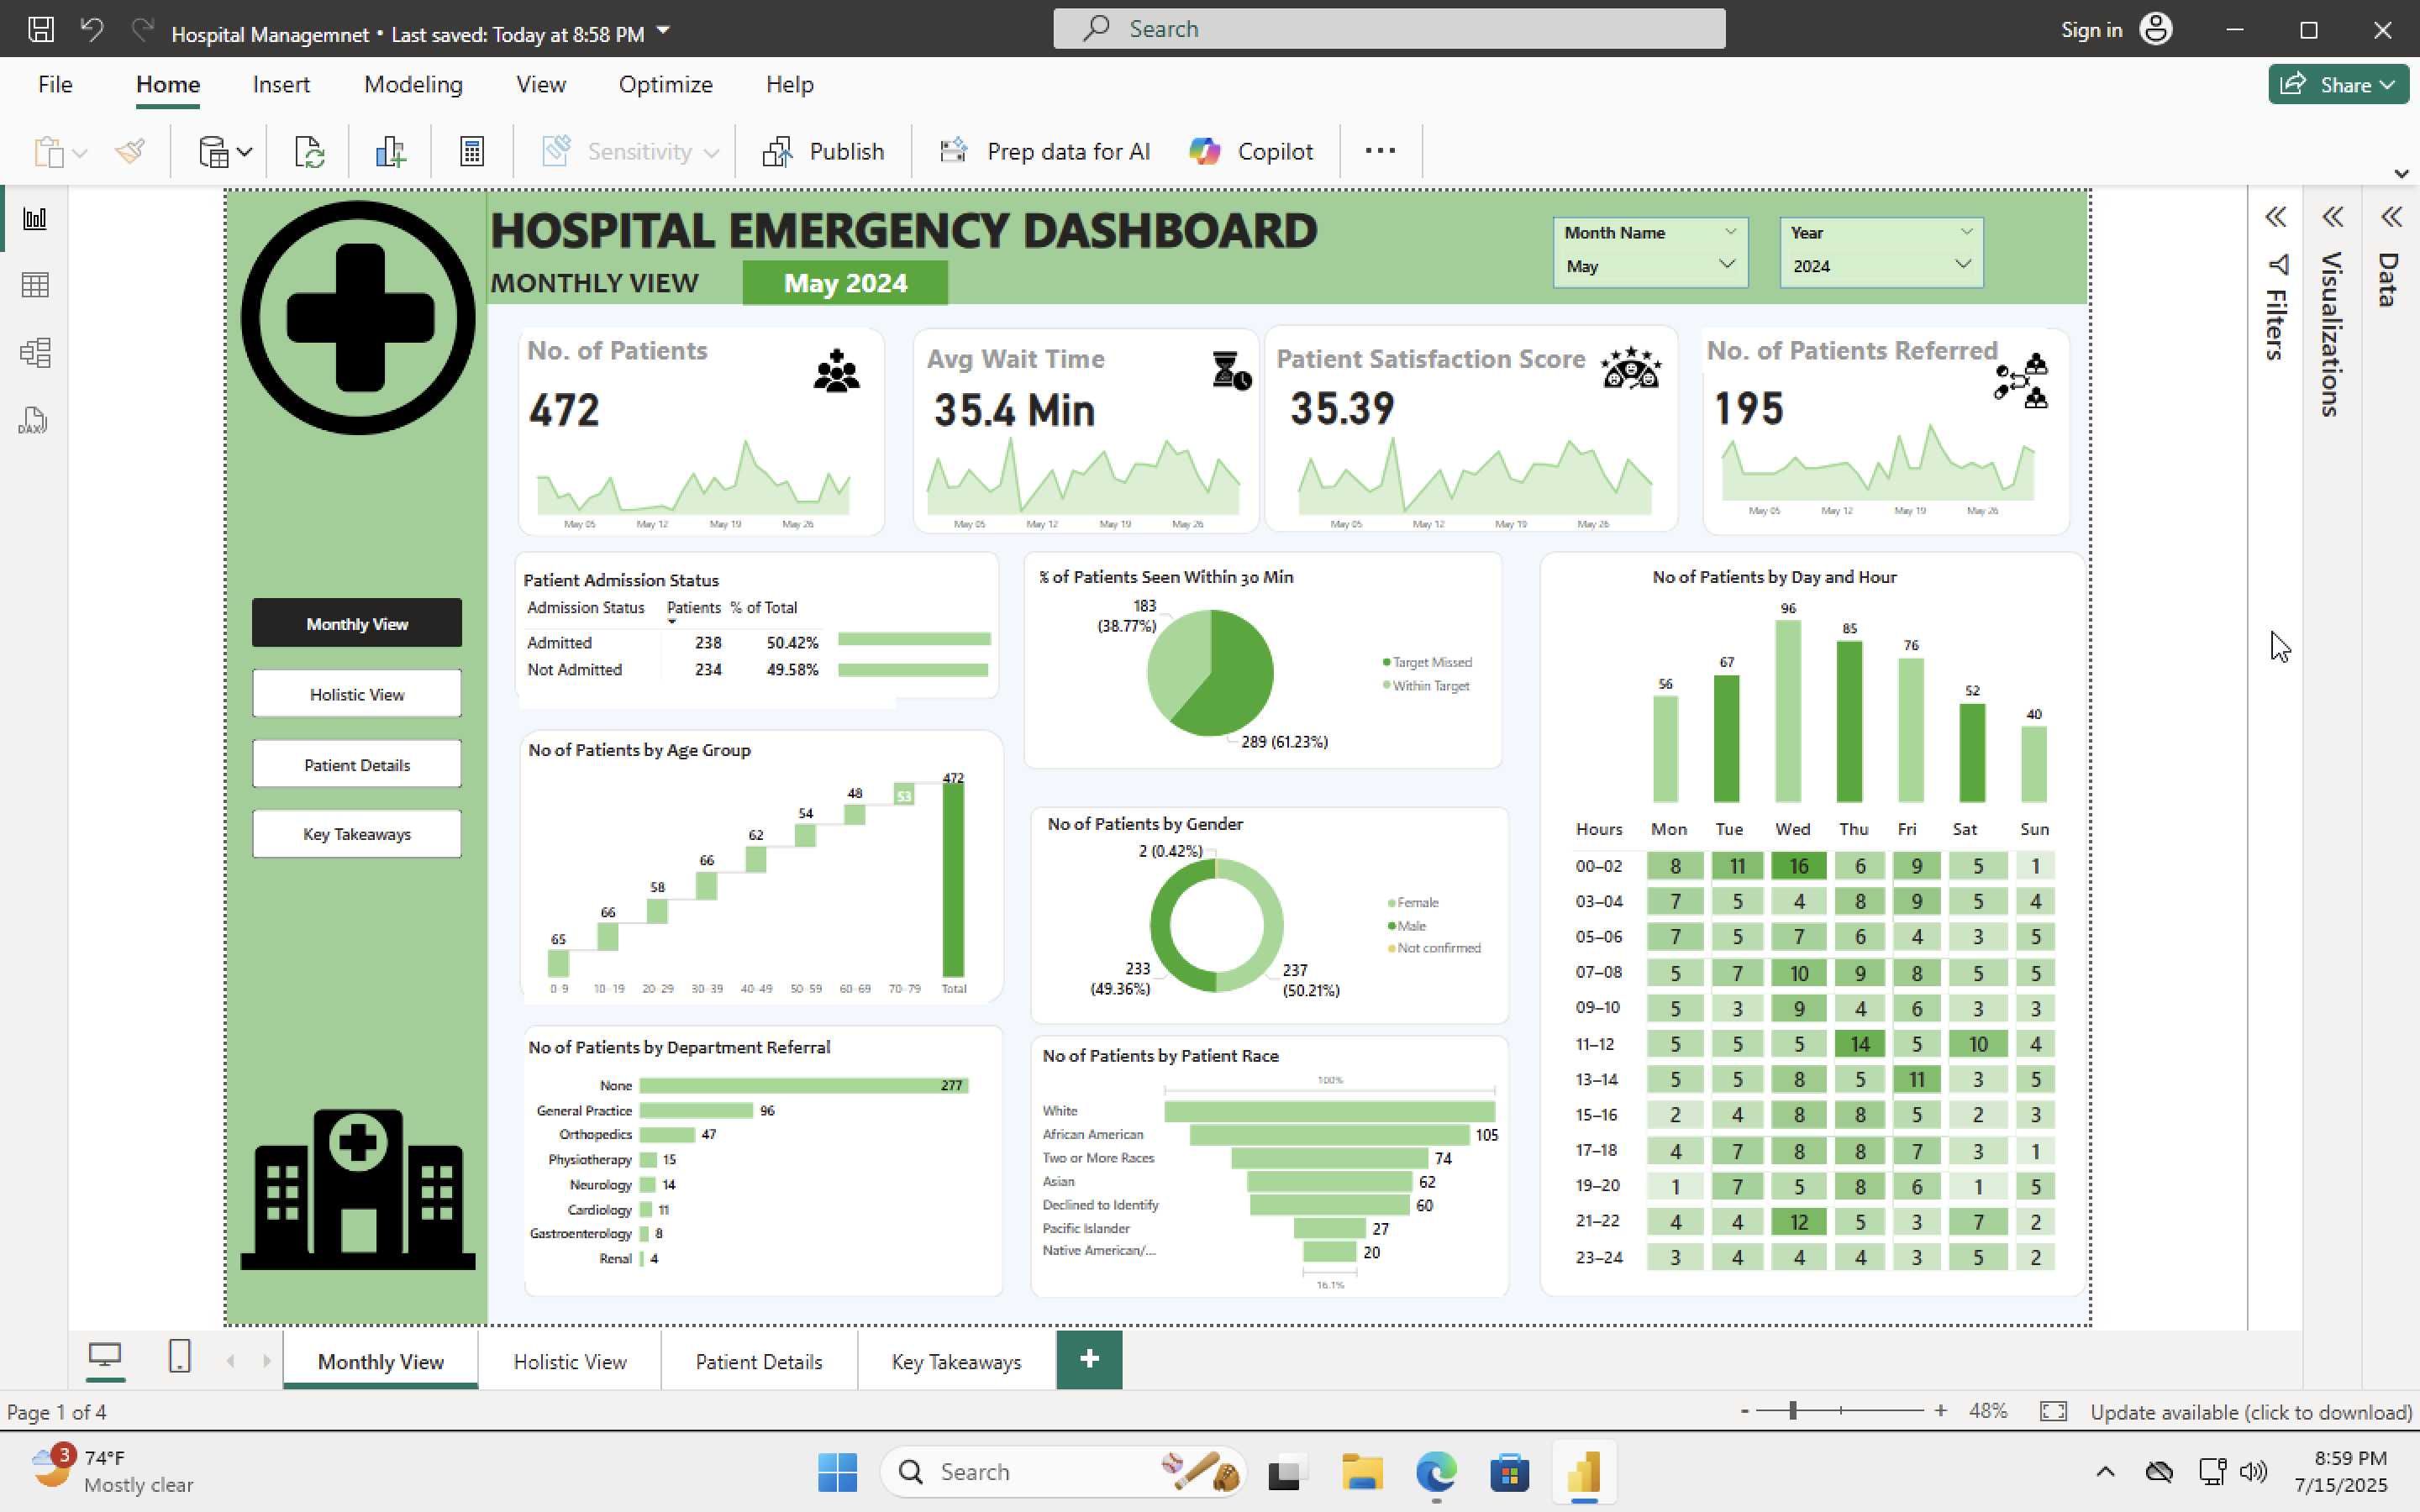

The page's visual inventory and layout, read from the dashboard file:
{"tool":"powerbi","page":{"name":"Monthly View","canvas":[2300,1400],"ordinal":0},"visuals":[{"type":"shape","box":[359.7,167.2,455,258.9],"z":0},{"type":"shape","box":[0,0,323.3,1400],"z":1000},{"type":"shape","box":[323.3,0,1976.7,139.5],"z":2000},{"type":"textbox","box":[320.7,0,1280.6,103.1],"z":3000},{"type":"textbox","box":[320.7,68.7,316.1,71],"z":4000},{"type":"card","fields":{"Values":["Hospital ER_Data.No of Patients"]},"box":[320.9,169.8,195.3,146.5],"z":5000},{"type":"slicer","fields":{"Values":["Date Table.Month Name"]},"box":[1639.5,30.2,241.9,88.4],"z":6000},{"type":"slicer","fields":{"Values":["Date Table.Year"]},"box":[1918.6,30.2,253.5,88.4],"z":7000},{"type":"textbox","box":[366.5,167.2,428.4,57.3],"z":8000},{"type":"areaChart","fields":{"Category":["Date Table.Date.Variation.Date Hierarchy.Day"],"Y":["Hospital ER_Data.No of Patients"]},"box":[359.7,284.1,435.3,144.3],"z":9000},{"type":"card","fields":{"Values":["Min(Date Table.Month & Year)"]},"box":[636.9,84.8,254.3,34.4],"z":10000},{"type":"shape","box":[983.7,444.2,593,269.8],"z":11000},{"type":"shape","box":[846.5,167.4,430.2,255.8],"z":12000},{"type":"areaChart","fields":{"Category":["Date Table.Date.Variation.Date Hierarchy.Day"],"Y":["Avg(Hospital ER_Data.Patient Waittime)"]},"box":[823.3,286,434.9,144.2],"z":13000},{"type":"shape","box":[1281.4,165.1,514,258.1],"z":14000},{"type":"textbox","box":[1293,179.1,407,53.5],"z":15000},{"type":"areaChart","fields":{"Category":["Date Table.Date.Variation.Date Hierarchy.Day"],"Y":["Hospital ER_Data.Satisfaction Score"]},"box":[1302.3,283.7,455.8,144.2],"z":16000},{"type":"shape","box":[1823.3,167.4,455.8,258.1],"z":17000},{"type":"textbox","box":[1830.2,176.7,427.9,55.8],"z":18000},{"type":"areaChart","fields":{"Category":["Date Table.Date.Variation.Date Hierarchy.Day"],"Y":["Hospital ER_Data.No of Patient Referred"]},"box":[1823.5,268,435.3,144.3],"z":19000},{"type":"card","fields":{"Values":["Hospital ER_Data.Avg Wait Time"]},"box":[858.1,209.3,232.6,107],"z":20000},{"type":"card","fields":{"Values":["Hospital ER_Data.Satisfaction Score"]},"box":[1281.4,214,195.3,93],"z":21000},{"type":"shape","box":[367.4,1030.2,593,337.2],"z":22000},{"type":"card","fields":{"Values":["Hospital ER_Data.No of Patient Referred"]},"box":[1795.3,197.7,172.1,125.6],"z":23000},{"type":"shape","box":[355.8,444.2,600,183.7],"z":24000},{"type":"pivotTable","title":"Patient Admission Status","fields":{"Rows":["Hospital ER_Data.Admission Status"],"Values":["Hospital ER_Data.No of Patients1","Hospital ER_Data.No of Patients"]},"box":[360.5,465.1,465.1,174.4],"z":25000},{"type":"barChart","fields":{"Category":["Hospital ER_Data.Admission Status"],"Y":["Hospital ER_Data.No of Patients"]},"box":[748.8,514,248.8,114],"z":26000},{"type":"shape","box":[360.5,665.1,600,339.5],"z":27000},{"type":"clusteredColumnChart","fields":{"Category":["Hospital ER_Data.Age Group"],"Y":["Hospital ER_Data.No of Patients"]},"box":[367.4,674.4,574.4,330.2],"z":28000},{"type":"clusteredBarChart","fields":{"Category":["Hospital ER_Data.Department Referral"],"Y":["Hospital ER_Data.No of Patients"]},"box":[367.4,1041.9,588.4,304.7],"z":29000},{"type":"donutChart","title":"% of Patients Seen  Within  30 Min","fields":{"Category":["Hospital ER_Data.Waitime Status"],"Y":["Hospital ER_Data.No of Patients"]},"box":[997.7,476.7,555.8,237.2],"z":30000},{"type":"shape","box":[993,1041.9,593,325.6],"z":31000},{"type":"shape","box":[993,760.5,593,269.8],"z":32000},{"type":"donutChart","title":"No of Patients by Gender","fields":{"Y":["Hospital ER_Data.No of Patients"],"Category":["Hospital ER_Data.Patient Gender"]},"box":[1009.3,767.4,555.8,253.5],"z":33000},{"type":"clusteredBarChart","fields":{"Y":["Hospital ER_Data.No of Patients"],"Category":["Hospital ER_Data.Patient Race"]},"box":[1002.3,1053.5,574.4,314],"z":34000},{"type":"shape","box":[1623.3,444.2,676.7,923.3],"z":35000},{"type":"pivotTable","fields":{"Rows":["Hospital ER_Data.Waittime Interval"],"Columns":["Date Table.Day Name"],"Values":["Hospital ER_Data.No of Patients"]},"box":[1658.1,767.4,620.9,586],"z":36000},{"type":"columnChart","title":"No of Patients by Day and Hour","fields":{"Category":["Date Table.Day Name"],"Y":["Hospital ER_Data.No of Patients"]},"box":[1758.1,460.5,500,300],"z":37000},{"type":"image","box":[711.6,181.4,83.7,81.4],"z":38000},{"type":"image","box":[1195.3,193,97.7,58.1],"z":39000},{"type":"image","box":[1683.7,169.8,102.3,93],"z":40000},{"type":"image","box":[2176.7,188.4,81.4,88.4],"z":41000},{"type":"textbox","box":[858.1,179.1,293,48.8],"z":42000},{"type":"image","box":[0,23.3,300,300],"z":43000},{"type":"image","box":[11.6,1083.7,300,300],"z":44000}]}

Visuals, with their boxes on the page's 2300x1400 design canvas (x1, y1, x2, y2). These are canvas units, not pixel positions in the 2420x1512 screenshot, which may show the page scaled, cropped or inside an application window:
shape: crop(360, 167, 815, 426)
shape: crop(0, 0, 323, 1400)
shape: crop(323, 0, 2300, 140)
textbox: crop(321, 0, 1601, 103)
textbox: crop(321, 69, 637, 140)
card - Hospital ER_Data.No of Patients: crop(321, 170, 516, 316)
slicer - Date Table.Month Name: crop(1640, 30, 1881, 119)
slicer - Date Table.Year: crop(1919, 30, 2172, 119)
textbox: crop(366, 167, 795, 224)
areaChart - Date Table.Date.Variation.Date Hierarchy.Day x Hospital ER_Data.No of Patients: crop(360, 284, 795, 428)
card - Min(Date Table.Month & Year): crop(637, 85, 891, 119)
shape: crop(984, 444, 1577, 714)
shape: crop(846, 167, 1277, 423)
areaChart - Date Table.Date.Variation.Date Hierarchy.Day x Avg(Hospital ER_Data.Patient Waittime): crop(823, 286, 1258, 430)
shape: crop(1281, 165, 1795, 423)
textbox: crop(1293, 179, 1700, 233)
areaChart - Date Table.Date.Variation.Date Hierarchy.Day x Hospital ER_Data.Satisfaction Score: crop(1302, 284, 1758, 428)
shape: crop(1823, 167, 2279, 426)
textbox: crop(1830, 177, 2258, 232)
areaChart - Date Table.Date.Variation.Date Hierarchy.Day x Hospital ER_Data.No of Patient Referred: crop(1824, 268, 2259, 412)
card - Hospital ER_Data.Avg Wait Time: crop(858, 209, 1091, 316)
card - Hospital ER_Data.Satisfaction Score: crop(1281, 214, 1477, 307)
shape: crop(367, 1030, 960, 1367)
card - Hospital ER_Data.No of Patient Referred: crop(1795, 198, 1967, 323)
shape: crop(356, 444, 956, 628)
"Patient Admission Status" pivotTable: crop(360, 465, 826, 640)
barChart - Hospital ER_Data.Admission Status x Hospital ER_Data.No of Patients: crop(749, 514, 998, 628)
shape: crop(360, 665, 960, 1005)
clusteredColumnChart - Hospital ER_Data.Age Group x Hospital ER_Data.No of Patients: crop(367, 674, 942, 1005)
clusteredBarChart - Hospital ER_Data.Department Referral x Hospital ER_Data.No of Patients: crop(367, 1042, 956, 1347)
"% of Patients Seen  Within  30 Min" donutChart: crop(998, 477, 1554, 714)
shape: crop(993, 1042, 1586, 1368)
shape: crop(993, 760, 1586, 1030)
"No of Patients by Gender" donutChart: crop(1009, 767, 1565, 1021)
clusteredBarChart - Hospital ER_Data.No of Patients x Hospital ER_Data.Patient Race: crop(1002, 1054, 1577, 1368)
shape: crop(1623, 444, 2300, 1368)
pivotTable - Hospital ER_Data.Waittime Interval x Date Table.Day Name: crop(1658, 767, 2279, 1353)
"No of Patients by Day and Hour" columnChart: crop(1758, 460, 2258, 760)
image: crop(712, 181, 795, 263)
image: crop(1195, 193, 1293, 251)
image: crop(1684, 170, 1786, 263)
image: crop(2177, 188, 2258, 277)
textbox: crop(858, 179, 1151, 228)
image: crop(0, 23, 300, 323)
image: crop(12, 1084, 312, 1384)
